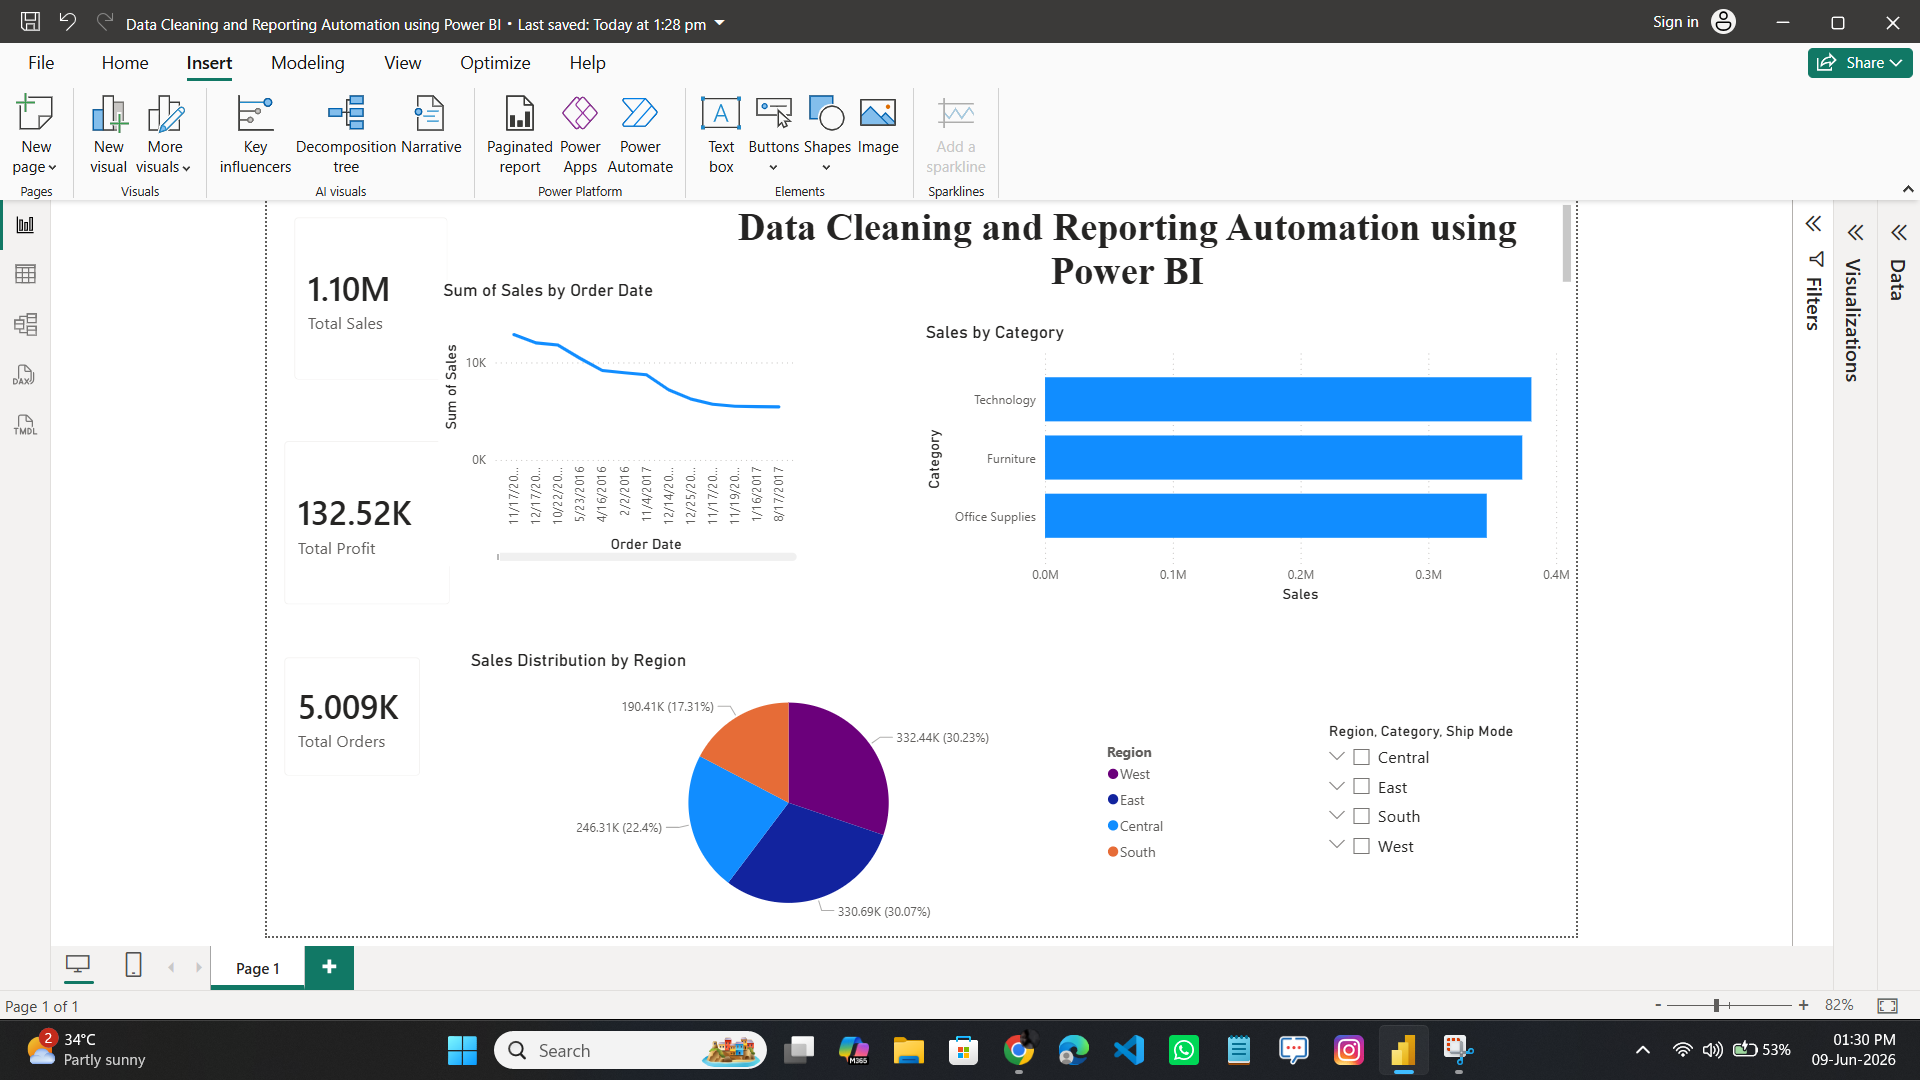

The page's visual inventory and layout, read from the dashboard file:
{"tool":"powerbi","page":{"name":"Page 1","canvas":[1280,720],"ordinal":0},"visuals":[{"type":"cardVisual","fields":{"Data":["Sum(Sample - Superstore.Sales)"]},"box":[9.8,0,184.6,193.2],"z":0},{"type":"cardVisual","fields":{"Data":["Sum(Sample - Superstore.Profit)"]},"box":[0,218.9,196.9,194.4],"z":1},{"type":"cardVisual","fields":{"Data":["CountNonNull(Sample - Superstore.Order ID)"]},"box":[0,430.4,167.5,150.4],"z":2},{"type":"barChart","fields":{"Category":["Sample - Superstore.Category"],"Y":["Sum(Sample - Superstore.Sales)"]},"box":[639.5,118.6,640.8,280],"z":3},{"type":"pieChart","fields":{"Category":["Sample - Superstore.Region"],"Y":["Sum(Sample - Superstore.Sales)"]},"box":[194.4,440.2,697,280],"z":4},{"type":"slicer","fields":{"Values":["Sample - Superstore.Region","Sample - Superstore.Category","Sample - Superstore.Ship Mode"]},"box":[1026,506.3,225,150.4],"z":5},{"type":"lineChart","fields":{"Category":["Sample - Superstore.Order Date"],"Y":["Sum(Sample - Superstore.Sales)"]},"box":[167.5,78.3,355.8,280],"z":6},{"type":"textbox","box":[410.9,0,869.4,90.5],"z":8}]}

Visuals, with their boxes on the page's 1280x720 design canvas (x1, y1, x2, y2). These are canvas units, not pixel positions in the 1920x1080 screenshot, which may show the page scaled, cropped or inside an application window:
cardVisual - Sum(Sample - Superstore.Sales): x1=10 y1=0 x2=194 y2=193
cardVisual - Sum(Sample - Superstore.Profit): x1=0 y1=219 x2=197 y2=413
cardVisual - CountNonNull(Sample - Superstore.Order ID): x1=0 y1=430 x2=168 y2=581
barChart - Sample - Superstore.Category x Sum(Sample - Superstore.Sales): x1=640 y1=119 x2=1280 y2=399
pieChart - Sample - Superstore.Region x Sum(Sample - Superstore.Sales): x1=194 y1=440 x2=891 y2=720
slicer - Sample - Superstore.Region x Sample - Superstore.Category: x1=1026 y1=506 x2=1251 y2=657
lineChart - Sample - Superstore.Order Date x Sum(Sample - Superstore.Sales): x1=168 y1=78 x2=523 y2=358
textbox: x1=411 y1=0 x2=1280 y2=90
